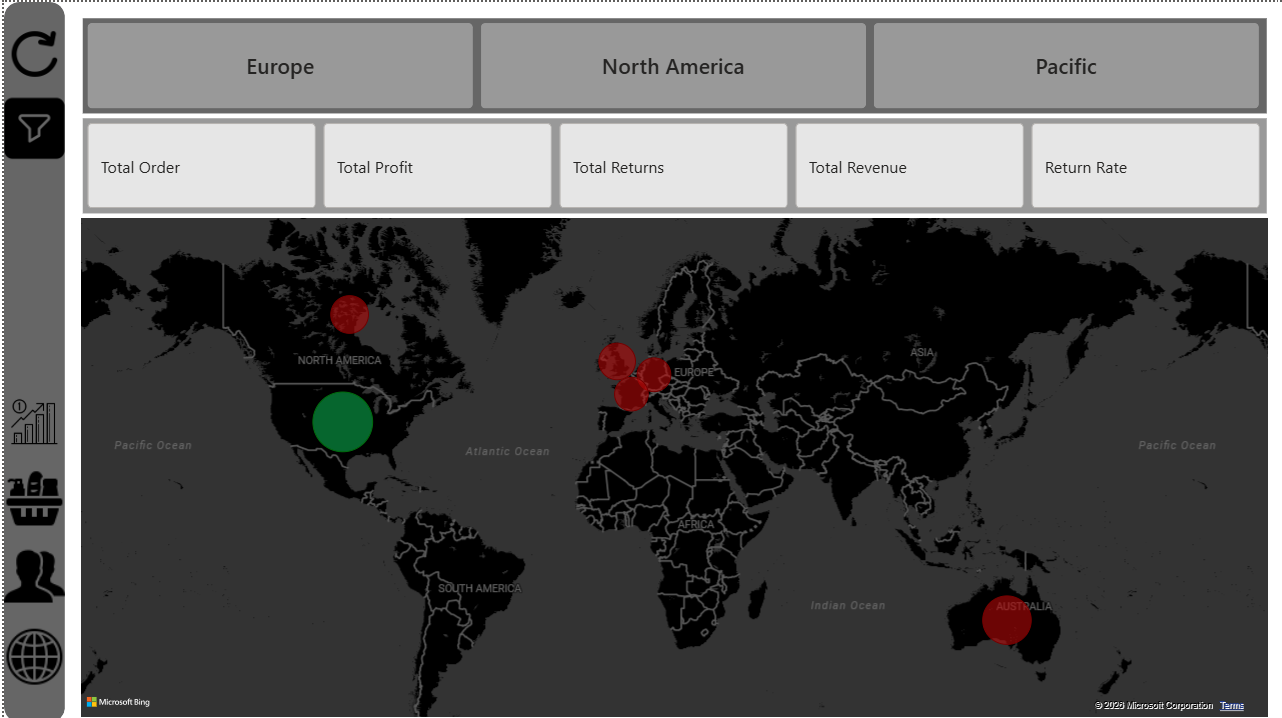

Layout of this report page (visuals, bound fields, positions):
{"tool":"powerbi","page":{"name":"Map","canvas":[1280,720],"ordinal":4},"visuals":[{"type":"group","id":"g1","title":"Left Bar","box":[0,0,61.1,720.2],"z":0},{"type":"shape","box":[0,0,61.1,720.2],"z":0,"group":"g1"},{"type":"map","fields":{"Size":["Measure.Total Order"],"Category":["Territory.Country"]},"box":[72.9,211.4,1197.1,508.6],"z":1000},{"type":"image","box":[0,374.2,61.1,95.4],"z":1000,"group":"g1"},{"type":"advancedSlicerVisual","title":"Metric_Selector by Country","fields":{"Values":["Metric_Selector.Metric_Selector"]},"box":[78.3,116.2,1183.7,95.4],"z":2000},{"type":"image","box":[0,607.7,61.1,94.2],"z":2000,"group":"g1"},{"type":"advancedSlicerVisual","fields":{"Values":["Territory.Continent"]},"box":[78.3,15.9,1183.7,95.4],"z":3000},{"type":"image","box":[0,527,61.1,91.7],"z":3000,"group":"g1"},{"type":"image","box":[0,450,61.1,95.4],"z":4000,"group":"g1"},{"type":"image","box":[0,0,61.1,103.9],"z":5000,"group":"g1"},{"type":"image","box":[0,78.3,61.1,95.4],"z":6000,"group":"g1"}]}

Visuals, with their boxes in screenshot pixels (x1, y1, x2, y2):
"Left Bar" group: select_region(0, 0, 62, 717)
shape: select_region(0, 0, 62, 717)
map - Measure.Total Order x Territory.Country: select_region(74, 212, 1281, 717)
image: select_region(0, 378, 62, 475)
"Metric_Selector by Country" advancedSlicerVisual: select_region(80, 115, 1281, 212)
image: select_region(0, 616, 62, 712)
advancedSlicerVisual - Territory.Continent: select_region(80, 13, 1281, 110)
image: select_region(0, 534, 62, 627)
image: select_region(0, 455, 62, 553)
image: select_region(0, 0, 62, 103)
image: select_region(0, 76, 62, 174)
